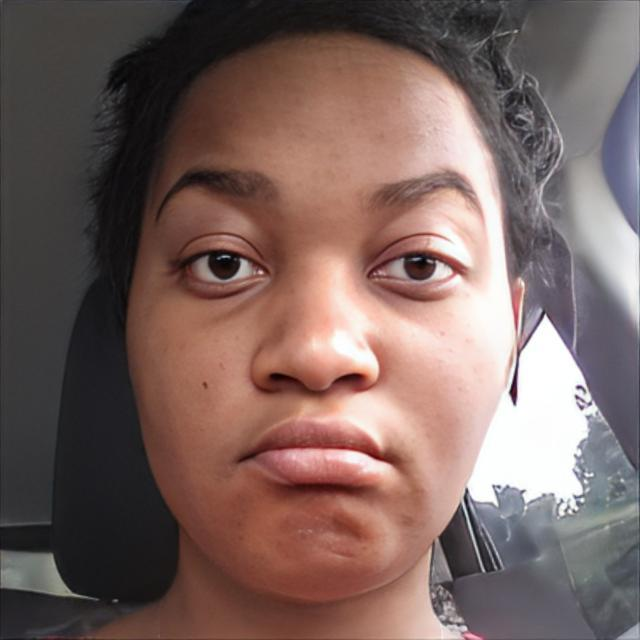sad: (120, 47, 514, 595)
